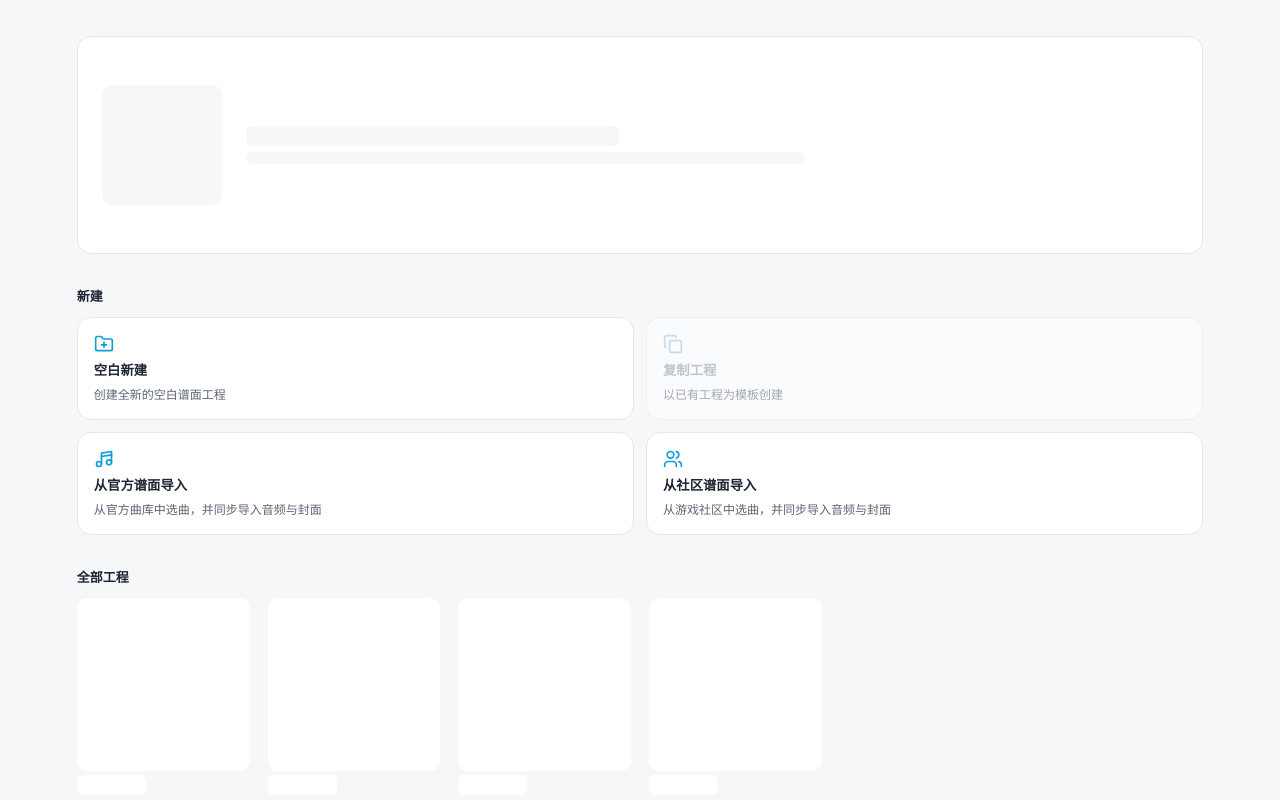
Test: 票 21 · 预览栏手风琴折叠 › 没选曲时预览区收起：预览栏不出内容，列表独占一列
The width and height of the screenshot is (1280, 800).
Expected: the heading "全部工程" is shown, [77,567,129,586]
Click the button "空白新建 创建全新的空白谱面工程" at (120, 370), box [77,317,634,420]
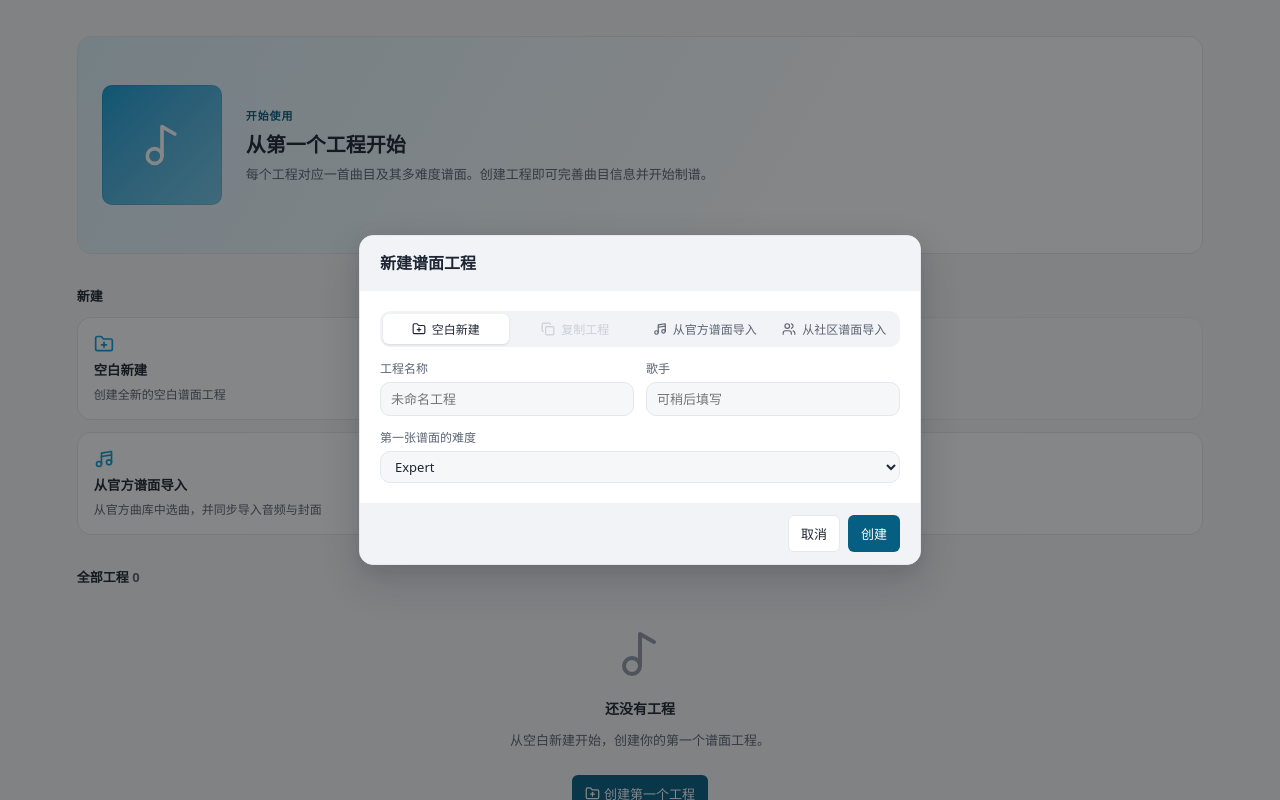
Click the button "从官方谱面导入" at (705, 329), box [642,314,768,344]
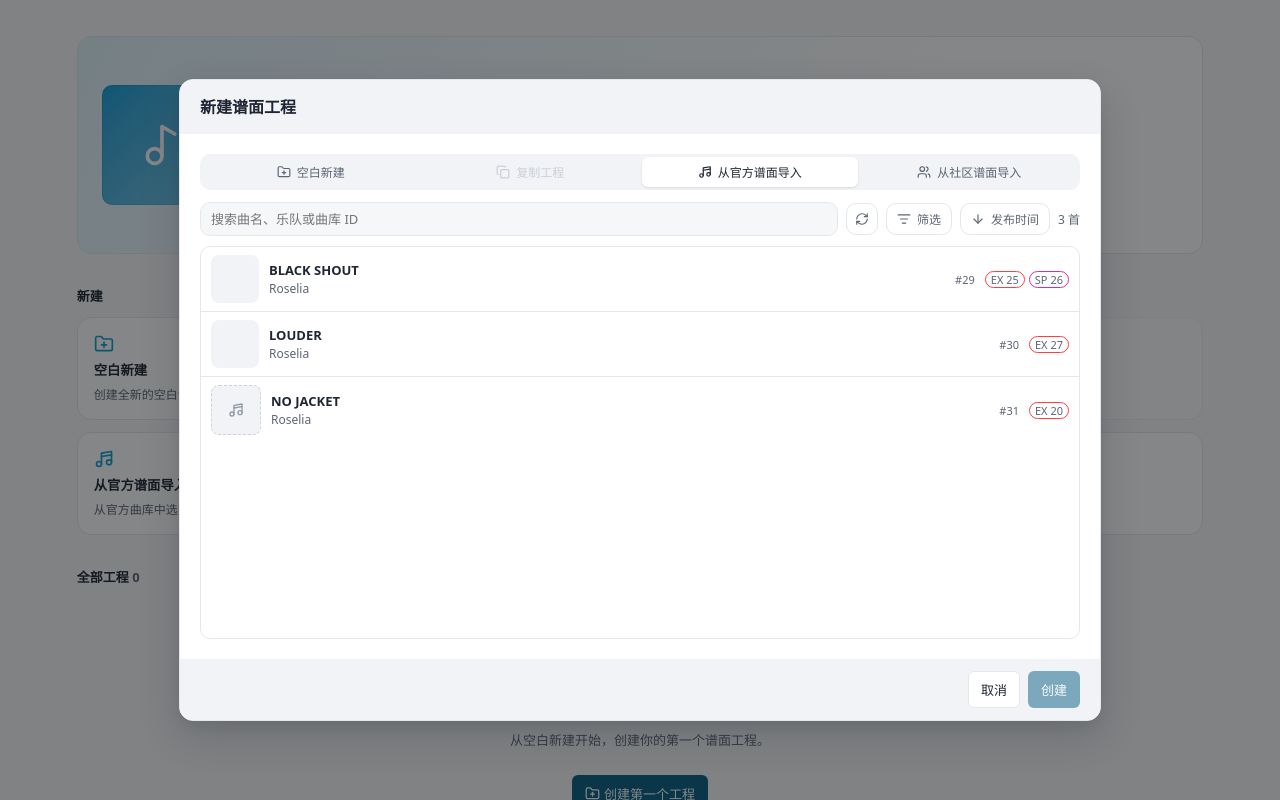
Result: the option "BLACK SHOUT Roselia #29 EX 25 SP 26" is shown at [201,247,1079,311]
Result: the button "创建" is disabled at [1028,671,1080,708]
